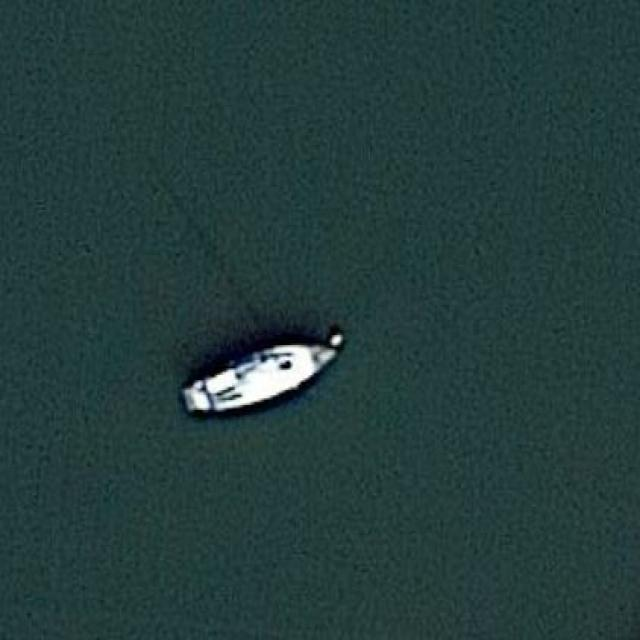boat: (176, 338, 349, 417)
